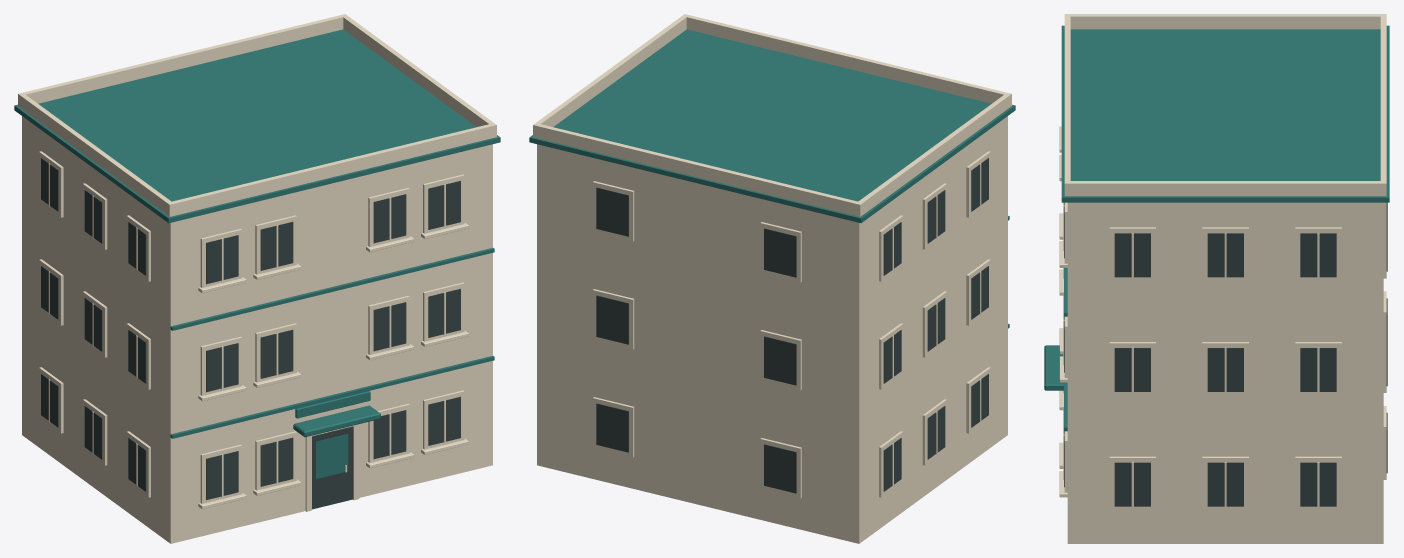
Rendered from clinic.glb.
3 renders of one model, left to right at view 1: azimuth 30°, elevation 25°; view 2: azimuth 150°, elevation 25°; view 3: azimuth 270°, elevation 25°, orthographic. The views are drawn at different scales.
Visible parts, largest first — view 1: wall-volume, batch-clinic-root-teal, batch-clinic-root-cream, batch-clinic-root-dark, door-panel; view 2: wall-volume, batch-clinic-root-teal, batch-clinic-root-cream, batch-clinic-root-dark; view 3: wall-volume, batch-clinic-root-teal, batch-clinic-root-cream, batch-clinic-root-dark.
Boxes of the visible parts, box(x1,y1,x2,y2) form: wall-volume: box(22, 116, 492, 543); batch-clinic-root-teal: box(14, 29, 500, 478); batch-clinic-root-cream: box(18, 14, 496, 511); batch-clinic-root-dark: box(41, 158, 460, 499); door-panel: box(312, 426, 352, 509); wall-volume: box(537, 116, 1007, 543); batch-clinic-root-teal: box(529, 29, 1015, 328); batch-clinic-root-cream: box(533, 14, 1011, 498); batch-clinic-root-dark: box(596, 158, 988, 493); wall-volume: box(1067, 202, 1383, 543); batch-clinic-root-teal: box(1044, 25, 1389, 431); batch-clinic-root-cream: box(1059, 14, 1386, 510); batch-clinic-root-dark: box(1064, 202, 1387, 506).
Size of the model in its own units: 10.3 by 10.1 by 8.74.
